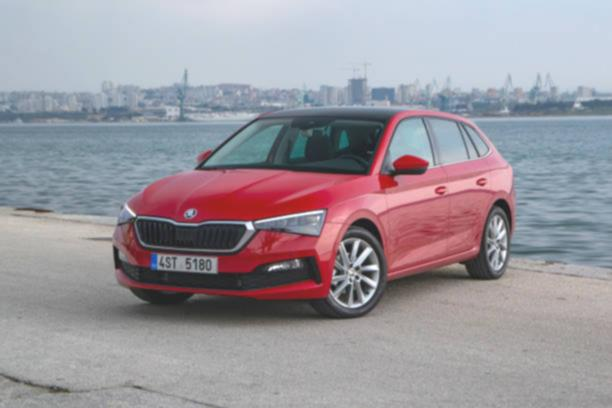skoda: (180, 204, 203, 222)
